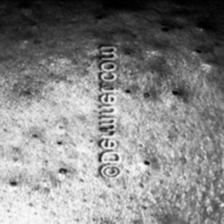Non-Cancerous Skin Condition: (0, 7, 85, 200), (119, 2, 224, 106), (133, 152, 160, 169)
